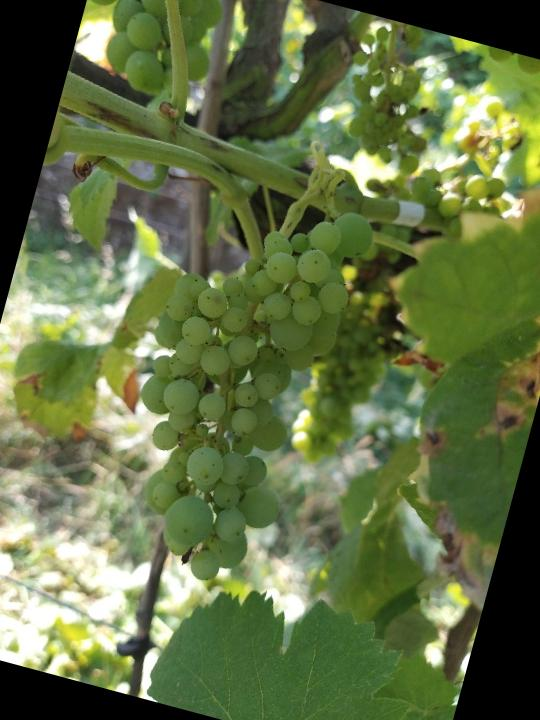grape: (94, 167, 382, 604)
